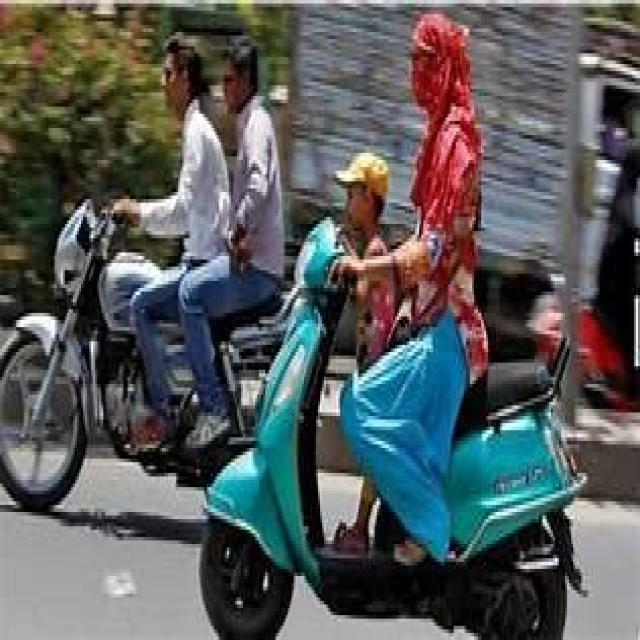Two Wheeler: (200, 219, 585, 637), (0, 200, 289, 510)
